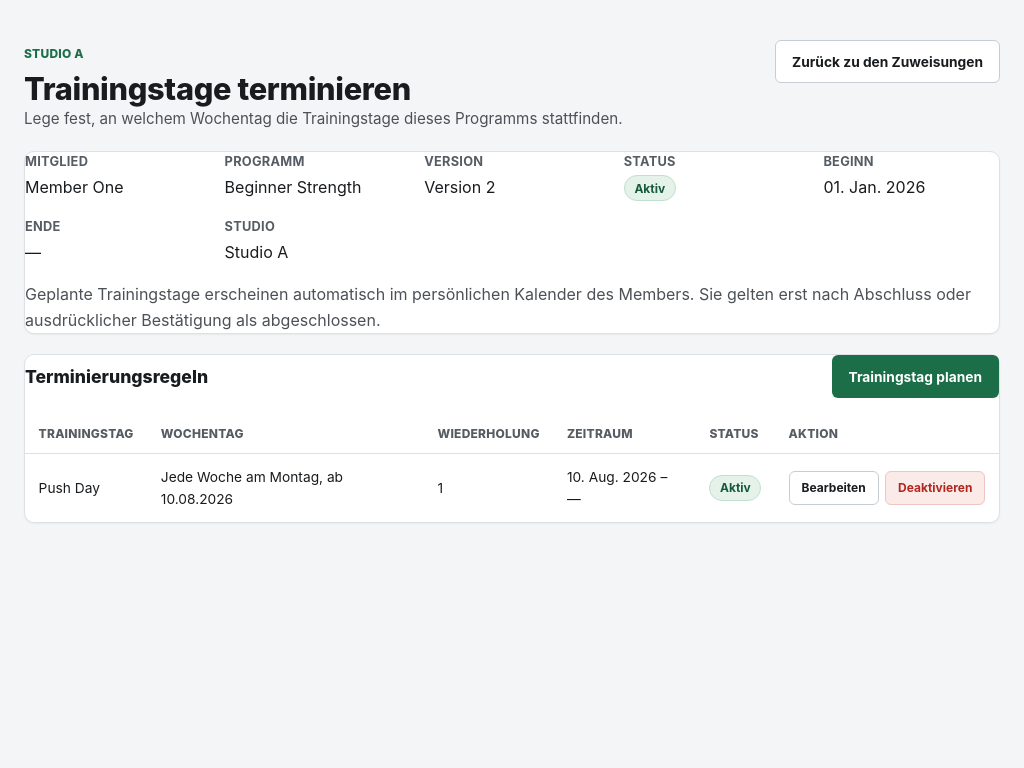
ScheduleRulesView › maps CALENDAR_ASSIGNMENT_INACTIVE and generic validation errors to translated messages
Click the button "Trainingstag planen".
click(915, 377)  # box x1=832 y1=355 x2=999 y2=398
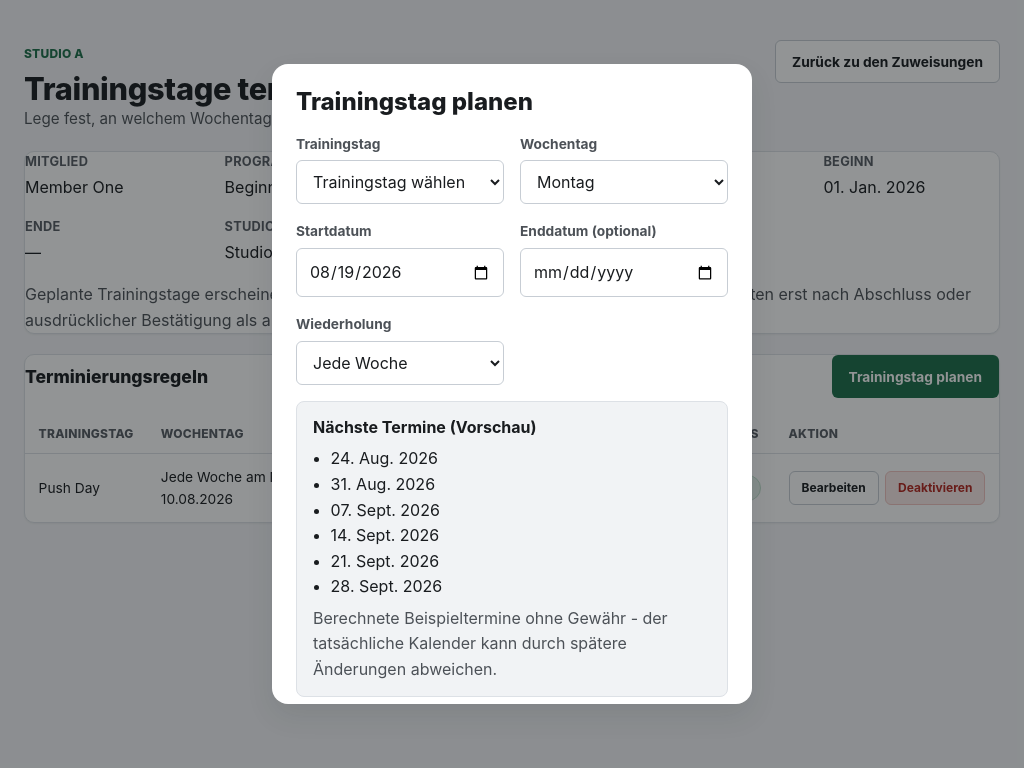
Select "2. Pull Day" in the dropdown with id "rule-program-day" at coordinates (400, 182), box x1=296 y1=160 x2=504 y2=204
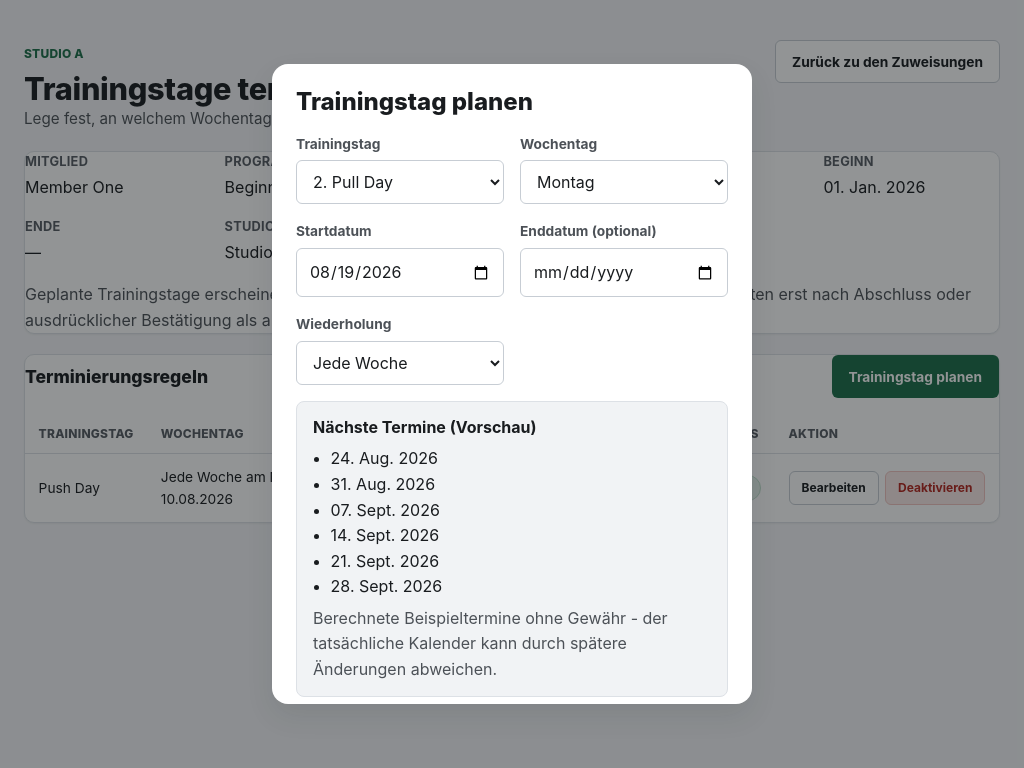
Type "2026-08-10" into the date field with id "rule-start".
click(400, 272); type("2026-08-10")  # box x1=296 y1=248 x2=504 y2=297
(page scrolled)
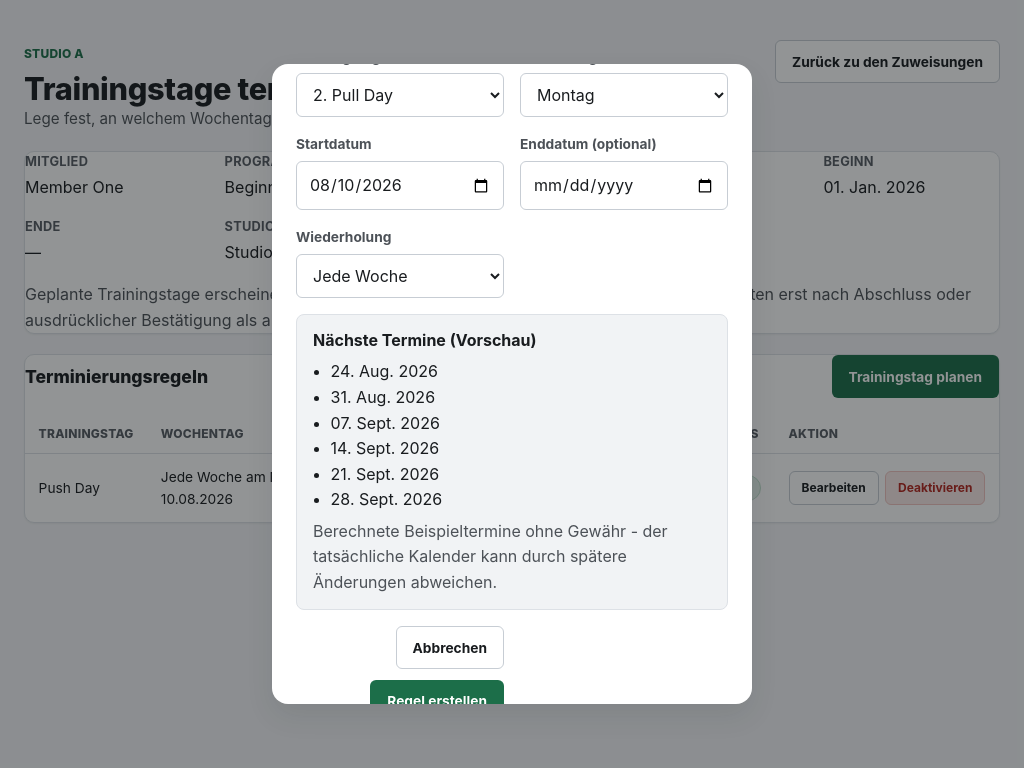
Submit the form, box x1=296 y1=46 x2=728 y2=723
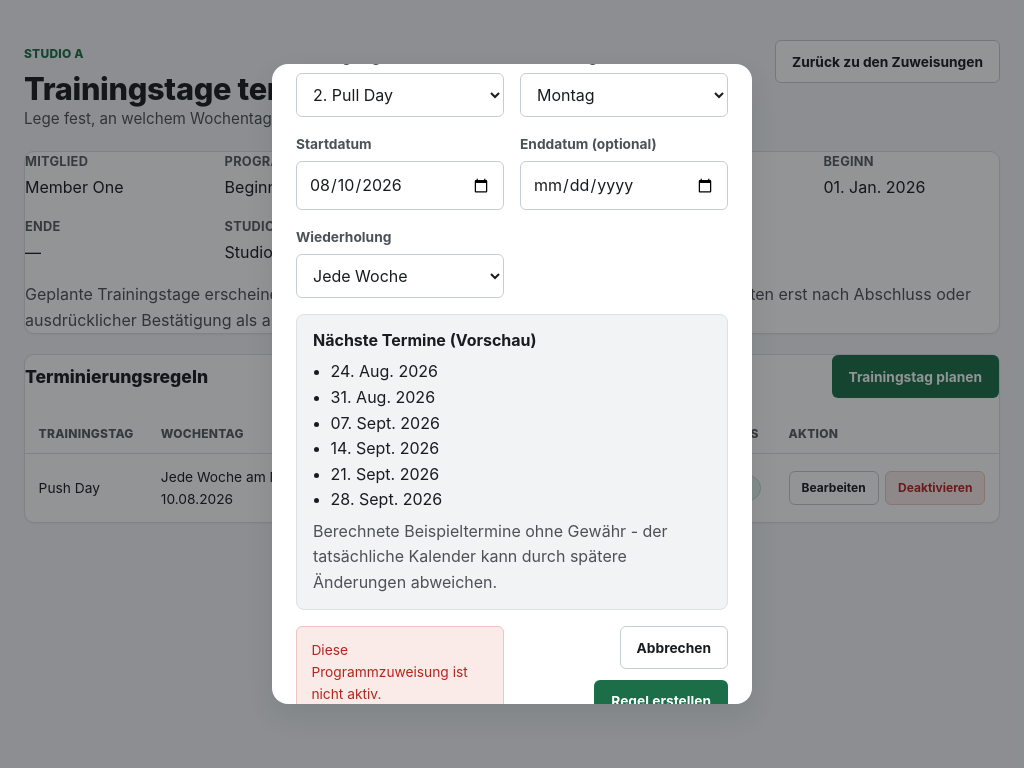
Result: the dialog shows "Diese Programmzuweisung ist nicht aktiv." at x1=311 y1=642 x2=468 y2=702
